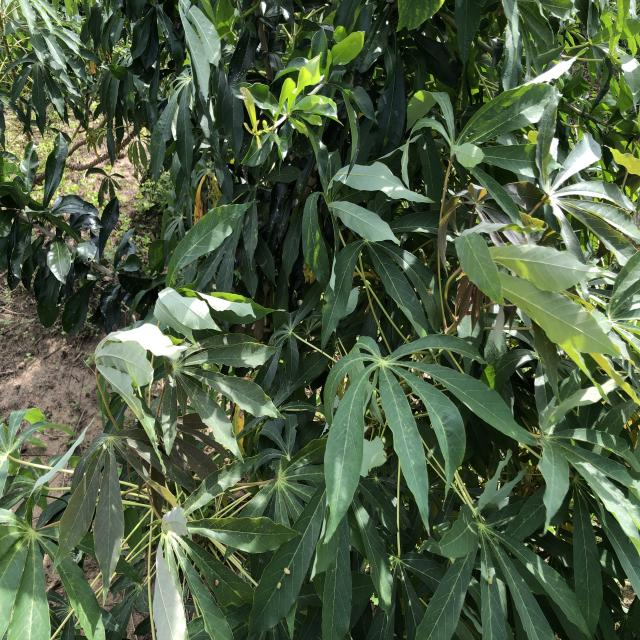Mosca: (369, 585, 386, 612), (482, 568, 500, 588), (208, 572, 225, 591), (425, 283, 439, 301), (278, 564, 300, 575), (274, 578, 288, 594)
